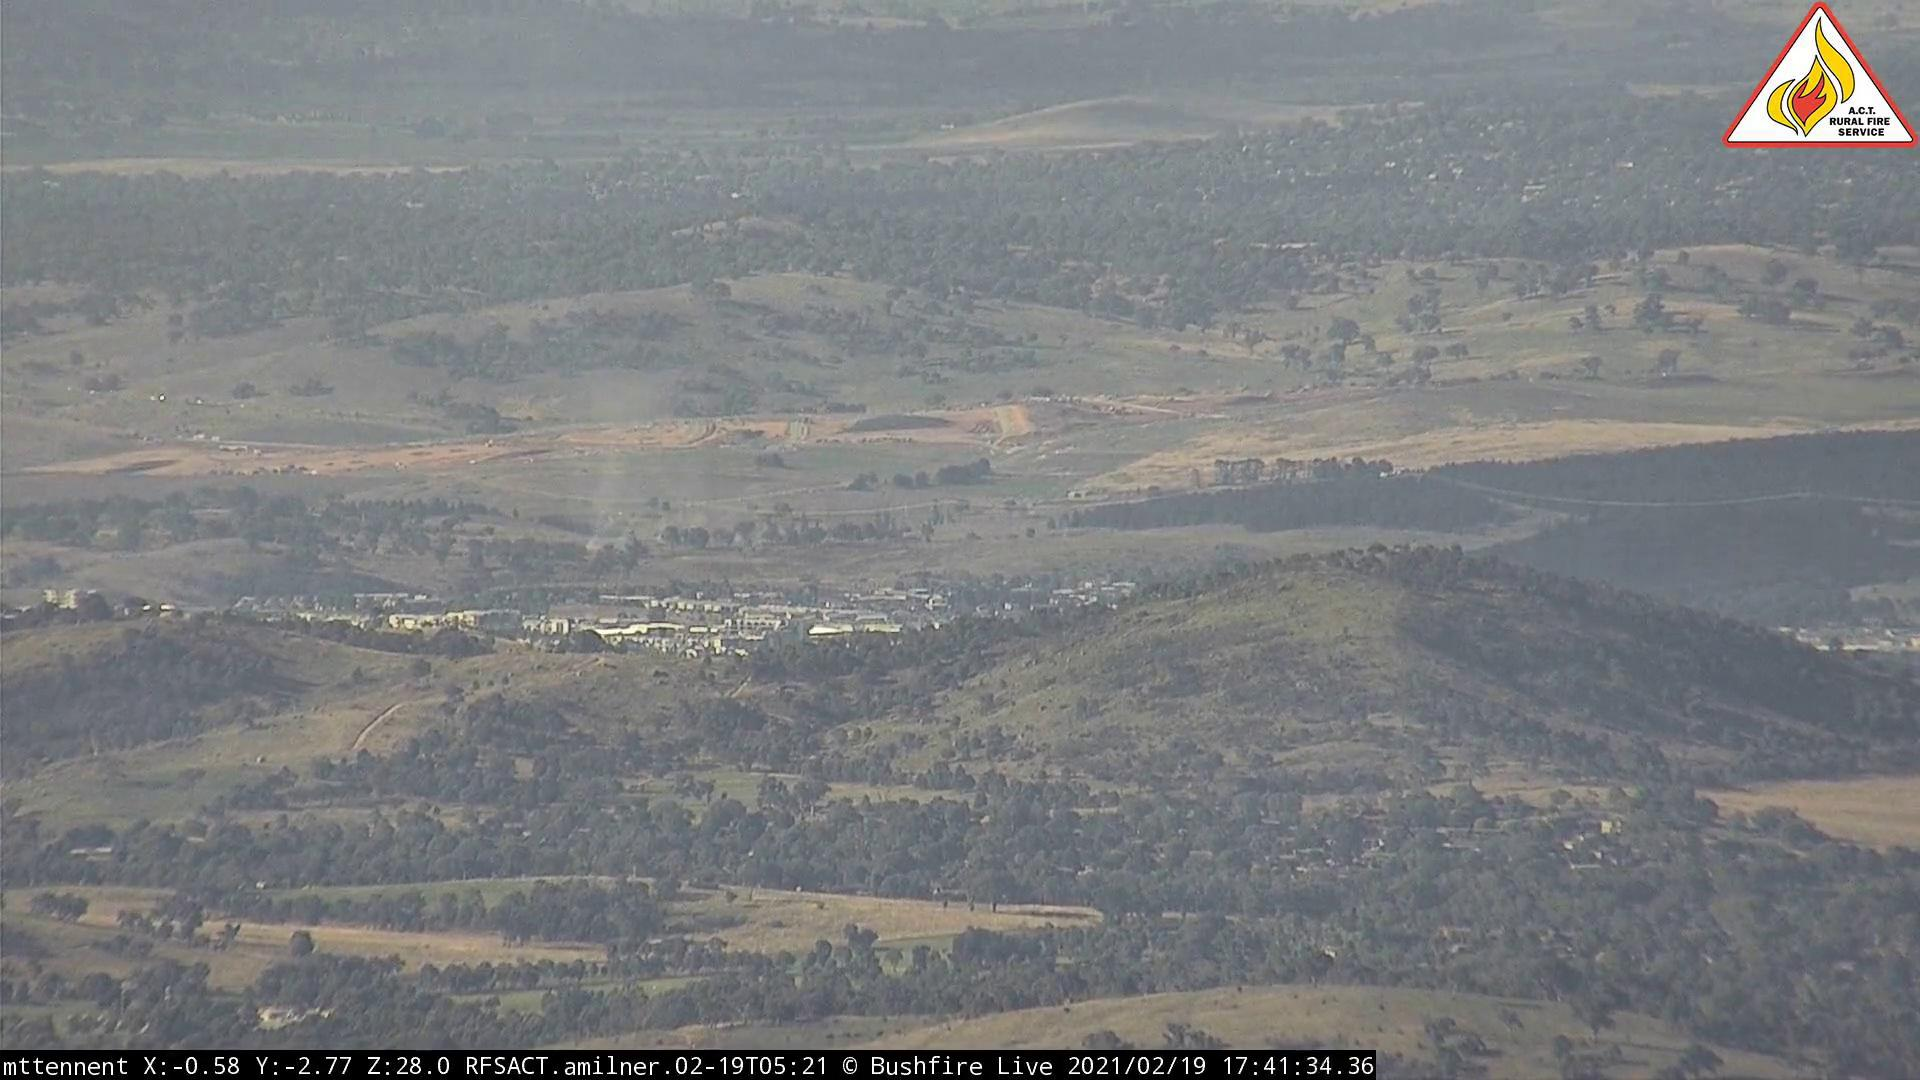instance_salient_object: (574, 467, 778, 547)
